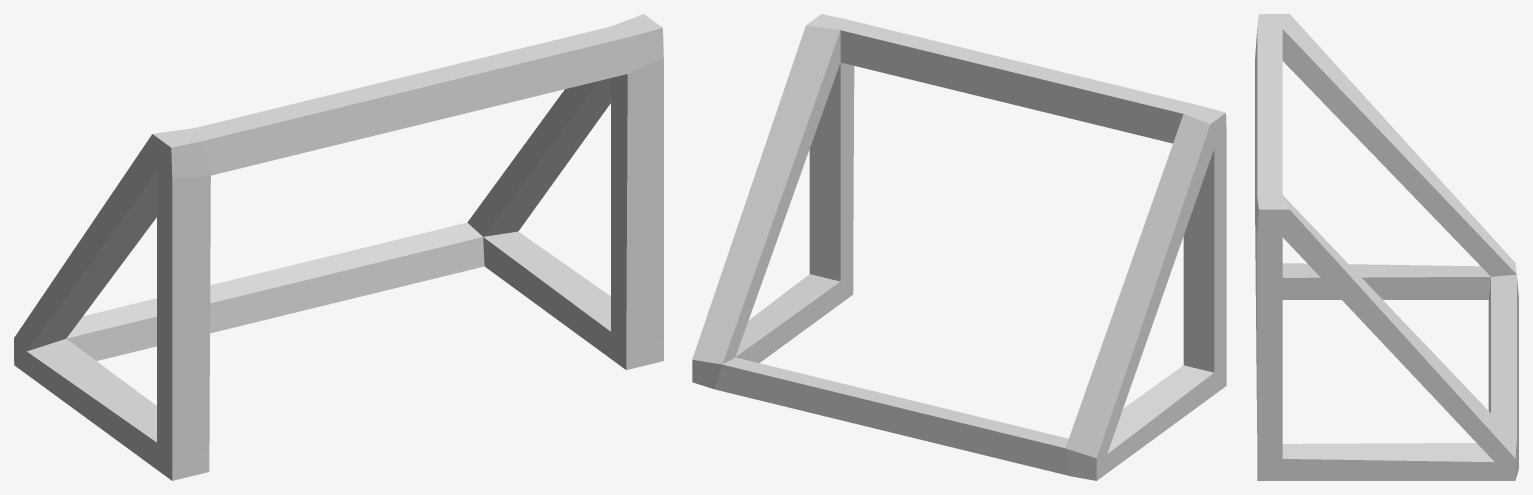
File: TraveFutebol.fbx
3 renders of one model, left to right at view 1: azimuth 30°, elevation 25°; view 2: azimuth 150°, elevation 25°; view 3: azimuth 270°, elevation 25°, orthographic. The views are drawn at different scales.
Parts seen in each view (by area): view 1: TraveFutebol; view 2: TraveFutebol; view 3: TraveFutebol.
Part boxes in pixels (x1=…): TraveFutebol: x1=14, y1=14, x2=663, y2=480; TraveFutebol: x1=692, y1=14, x2=1226, y2=480; TraveFutebol: x1=1255, y1=14, x2=1518, y2=480.
Size of the model in its own units: 272 by 176 by 155.
